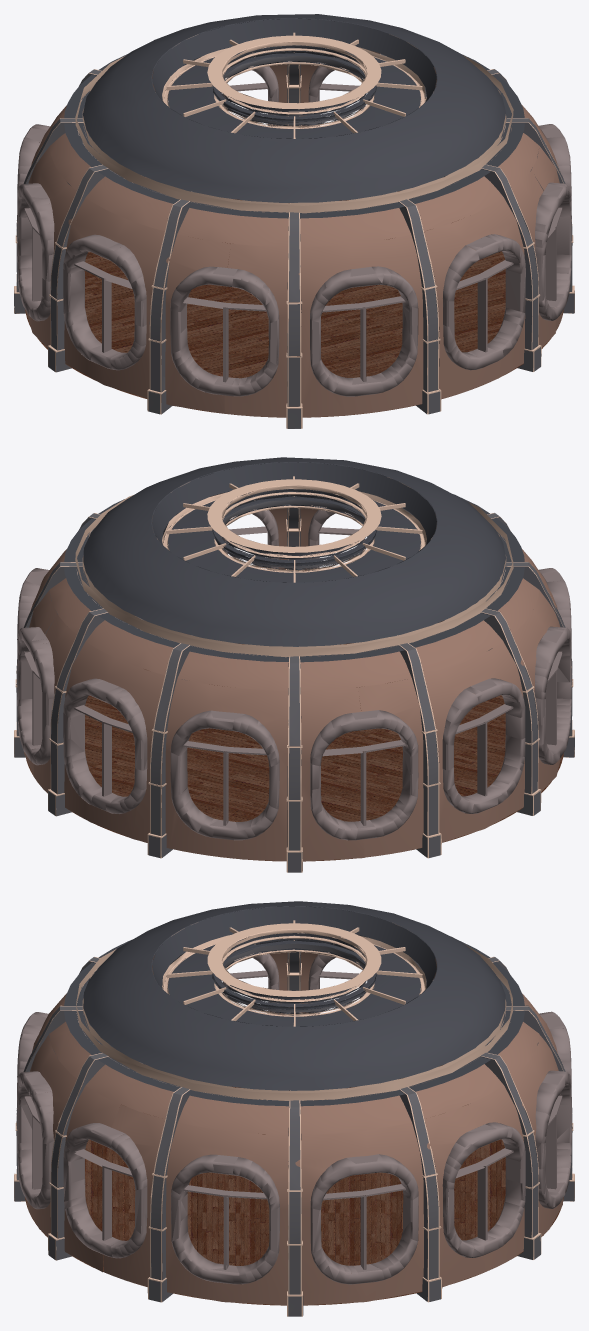
File: decimatedPastMuseum.glb
The picture shows the model from 3 angles, top to bottom: view 1: azimuth 30°, elevation 25°; view 2: azimuth 150°, elevation 25°; view 3: azimuth 270°, elevation 25°; orthographic projection.
Visible parts, largest first — view 1: Circle.002, Circle, Cube.002, Cube.001, Circle.001, Cube.004, Cube.003; view 2: Circle.002, Circle, Cube.002, Cube.001, Circle.001, Cube.004, Cube.003; view 3: Circle.002, Circle, Cube.002, Cube.001, Circle.001, Cube.004, Cube.003.
Boxes of the visible parts, <box> form: Circle.002: <box>75,14,513,213</box>; Circle: <box>26,48,562,417</box>; Cube.002: <box>17,66,571,396</box>; Cube.001: <box>14,54,574,428</box>; Circle.001: <box>25,199,563,417</box>; Cube.004: <box>24,82,562,382</box>; Cube.003: <box>166,32,422,138</box>; Circle.002: <box>75,457,513,657</box>; Circle: <box>24,491,560,861</box>; Cube.002: <box>17,510,571,840</box>; Cube.001: <box>14,503,574,872</box>; Circle.001: <box>26,643,563,861</box>; Cube.004: <box>24,526,562,825</box>; Cube.003: <box>166,476,422,582</box>; Circle.002: <box>76,901,512,1100</box>; Circle: <box>25,935,563,1305</box>; Cube.002: <box>17,954,571,1284</box>; Cube.001: <box>14,952,574,1316</box>; Circle.001: <box>25,1086,563,1305</box>; Cube.004: <box>24,970,562,1269</box>; Cube.003: <box>166,920,422,1026</box>.
Size of the model in its own units: 33.07 by 15.49 by 33.07.
Materials: 6 (1 with a texture image).
